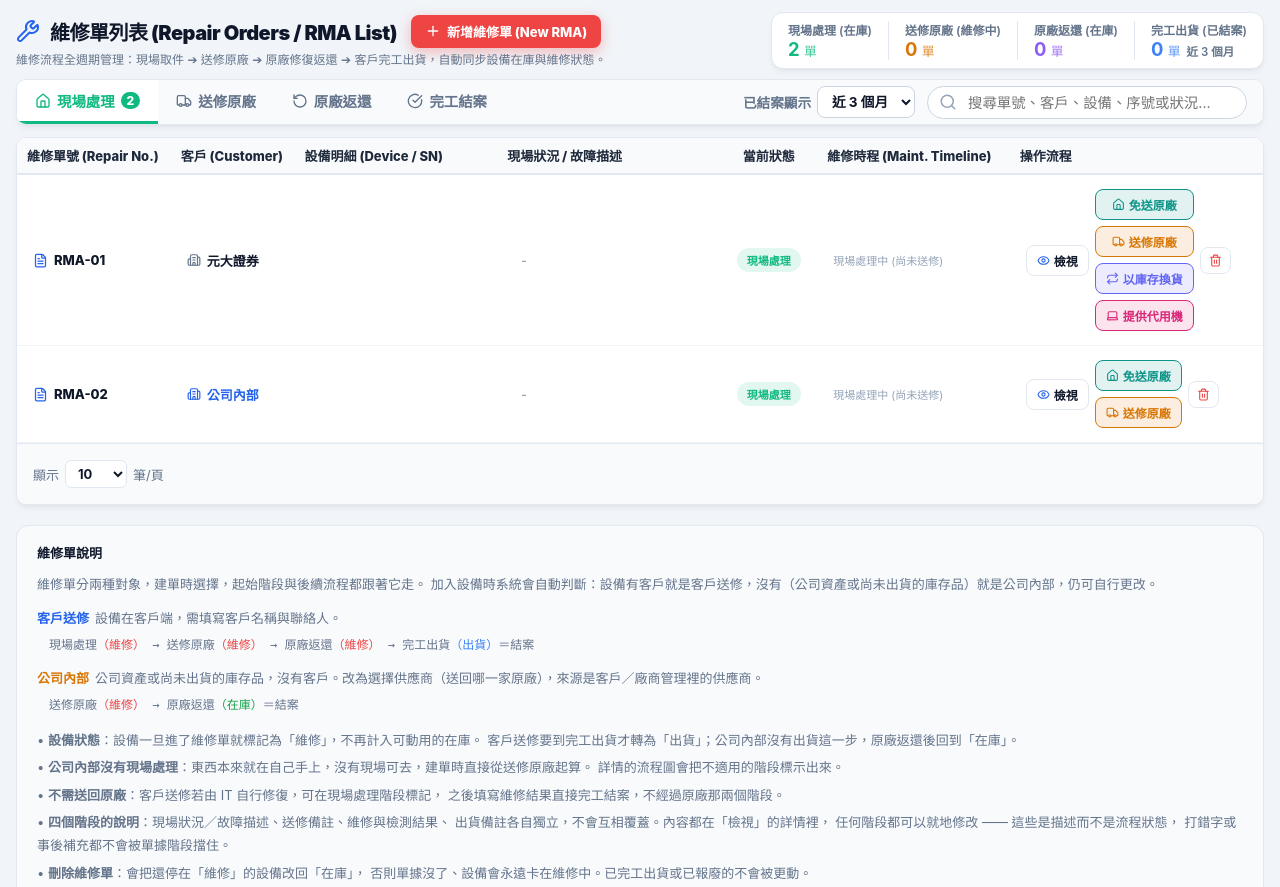
Test case: 維修單列表 › 可以用「公司內部」搜尋
Expected: the text "RMA-01" is shown, x1=54 y1=252 x2=105 y2=268
Type "公司內部" into the field with placeholder "搜尋單號、客戶、設備、序號或狀況...". click: x=1087, y=102
box: x1=927 y1=86 x2=1247 y2=118
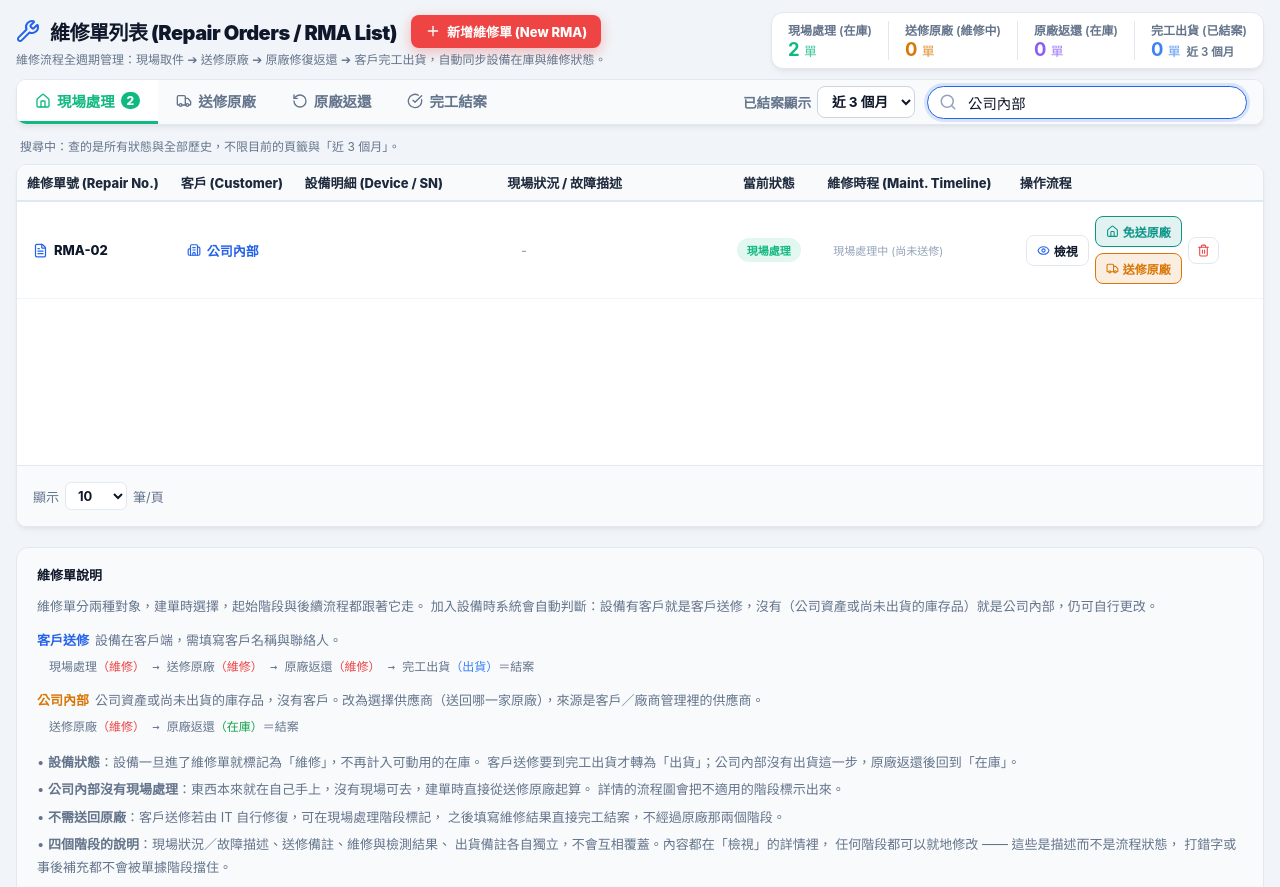
Expected: the text "RMA-02" is shown, x1=54 y1=242 x2=108 y2=258
Expected: the text "RMA-01" is gone
